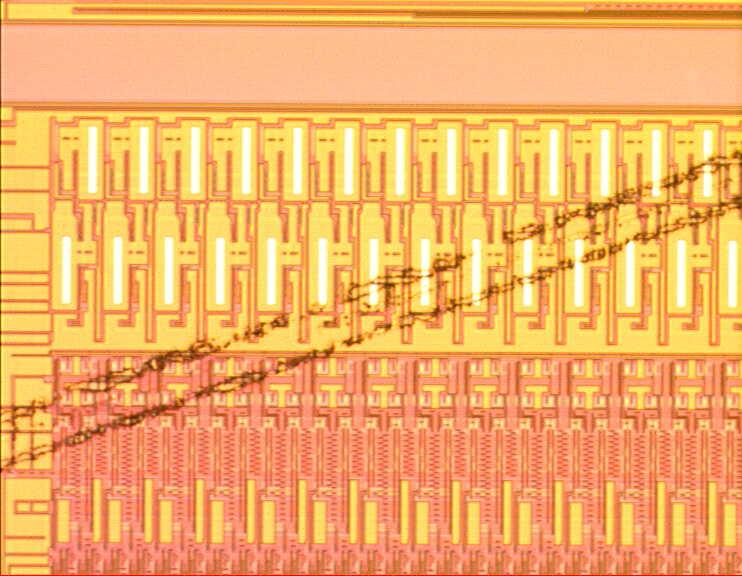SCRATCH: (2, 140, 742, 488)
